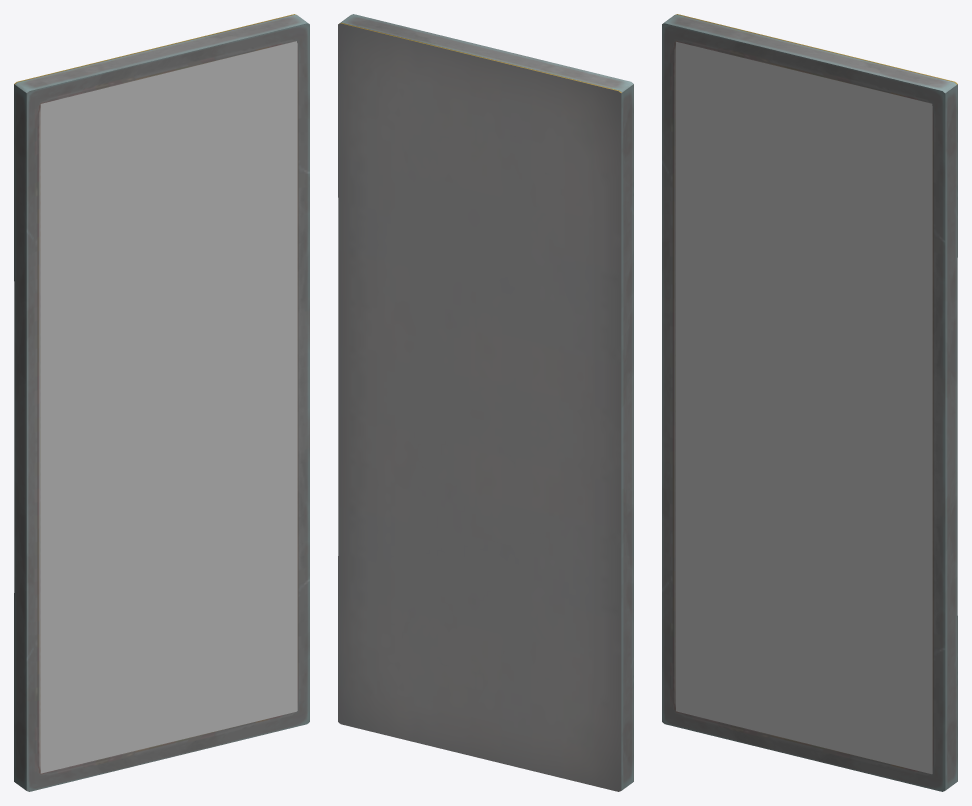
Rendered from pref_sm_city_billboardholo04_snow_lv3.fbx.
3 views of the same model, side by side, from view 1: azimuth 30°, elevation 25°; view 2: azimuth 150°, elevation 25°; view 3: azimuth 330°, elevation 25° (orthographic).
Visible parts, largest first — view 1: sm_city_billboardholo04_snow_lv3, sm_city_billboardholo04b_snow_lv3; view 2: sm_city_billboardholo04b_snow_lv3; view 3: sm_city_billboardholo04_snow_lv3, sm_city_billboardholo04b_snow_lv3.
Part boxes in pixels (<box>): sm_city_billboardholo04_snow_lv3: <box>40,41,297,773</box>; sm_city_billboardholo04b_snow_lv3: <box>14,14,309,791</box>; sm_city_billboardholo04b_snow_lv3: <box>338,14,633,791</box>; sm_city_billboardholo04_snow_lv3: <box>676,41,932,773</box>; sm_city_billboardholo04b_snow_lv3: <box>662,14,957,791</box>.
Size of the model in its own units: 9.44 by 22.33 by 0.7388.
